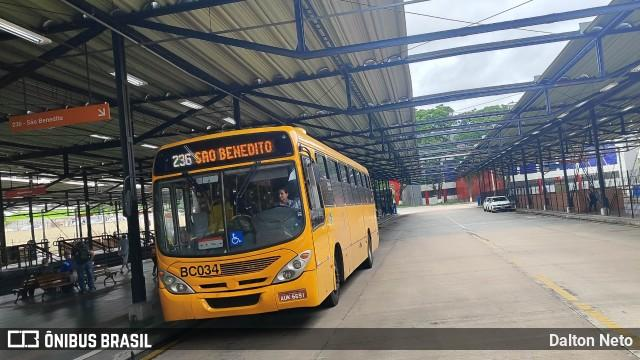SAO BENEDITO: (190, 136, 275, 167)
